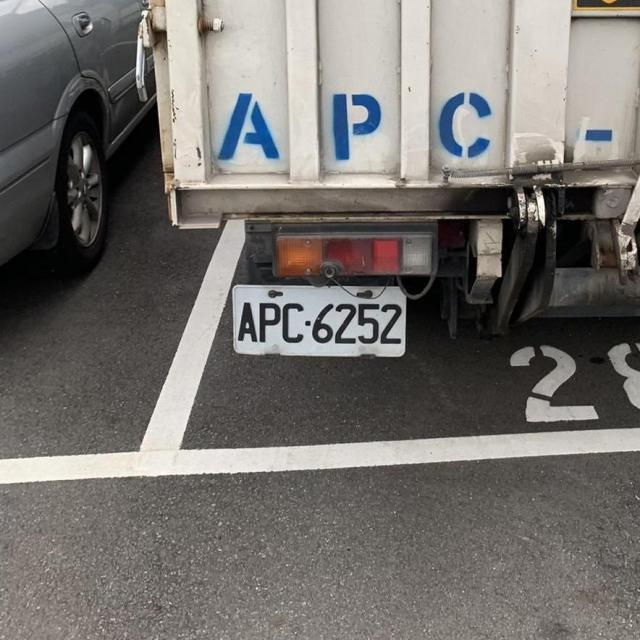W: (224, 277, 412, 363)
